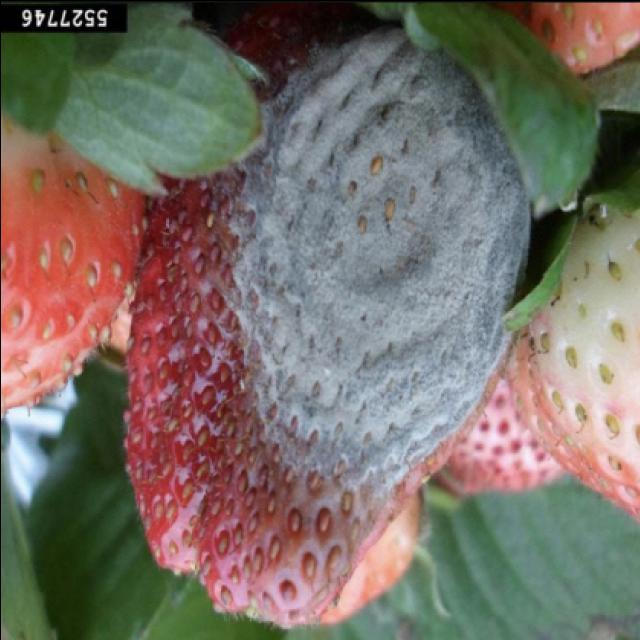Gray Mold: (120, 9, 532, 627)
